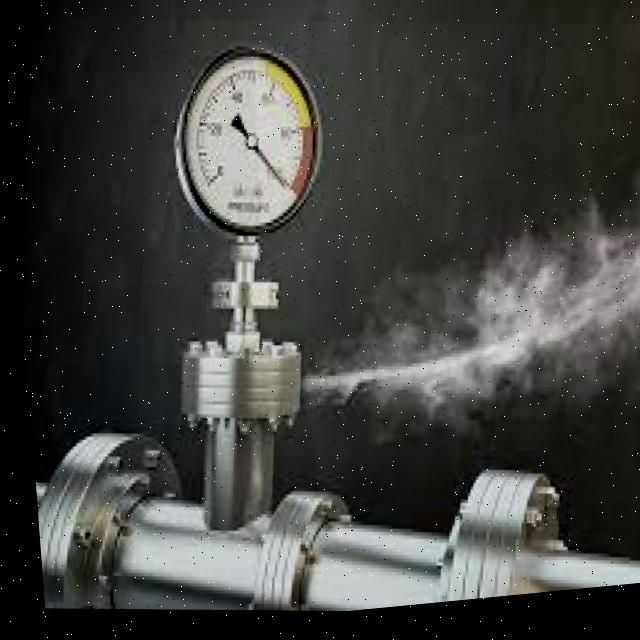corrosion: (251, 268, 544, 509)
